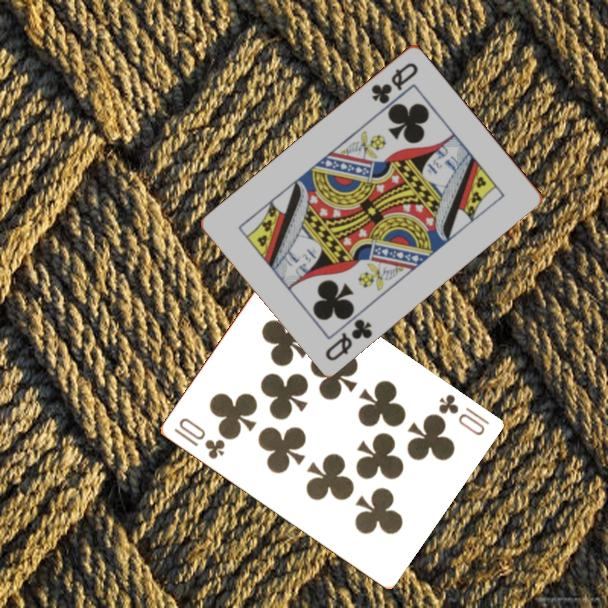c10: (170, 414, 228, 462), (434, 391, 492, 439)
c12: (321, 315, 376, 363), (368, 58, 421, 107)
